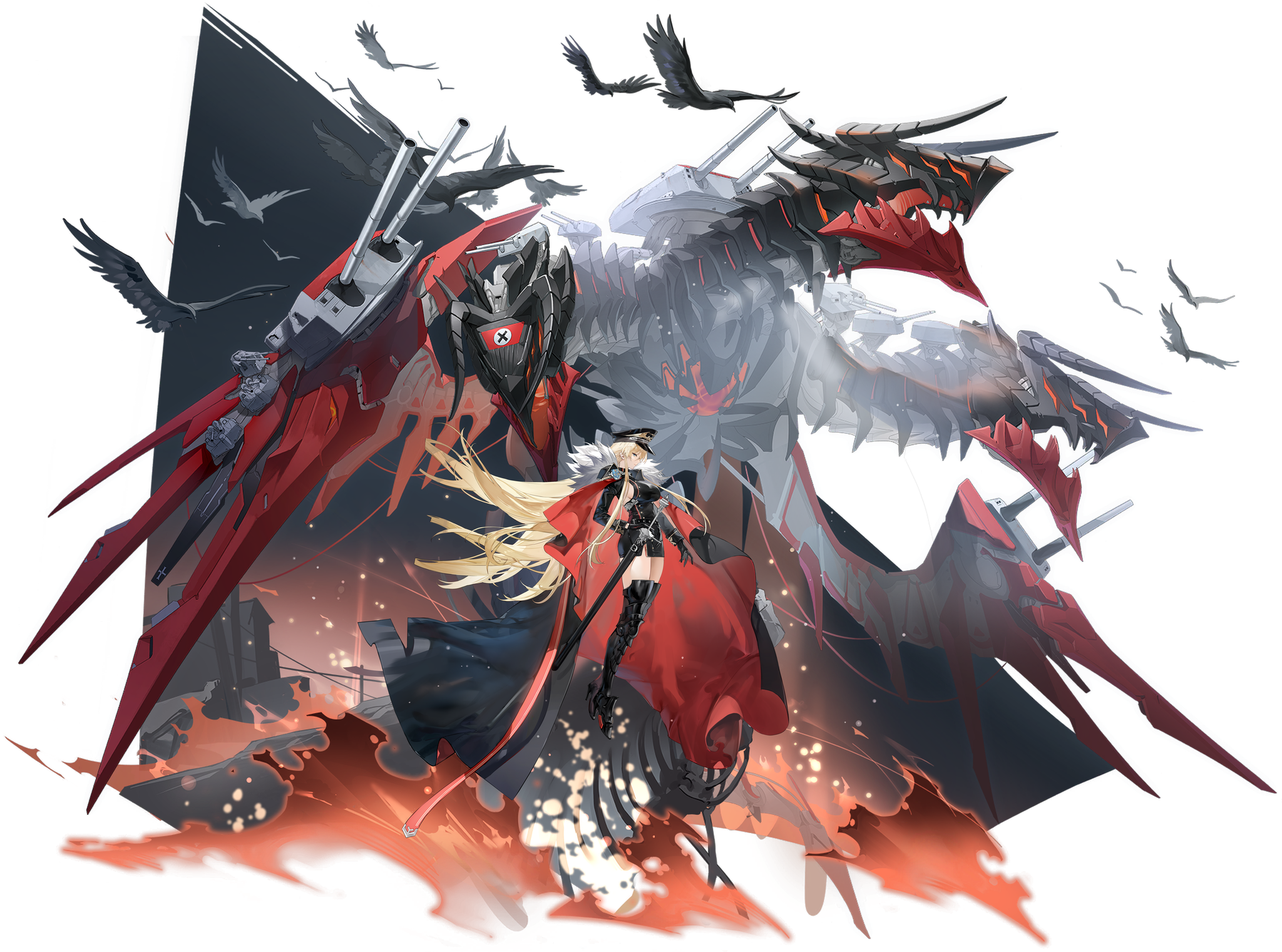person: (409, 391, 757, 788)
